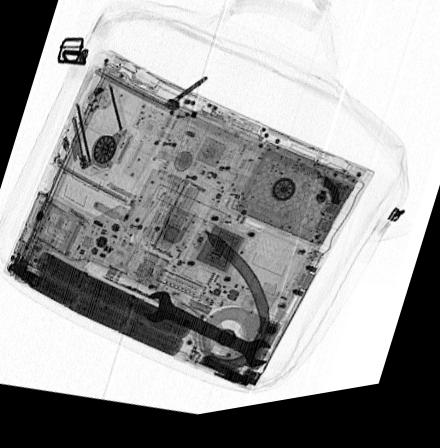Wrench: (138, 295, 274, 376)
